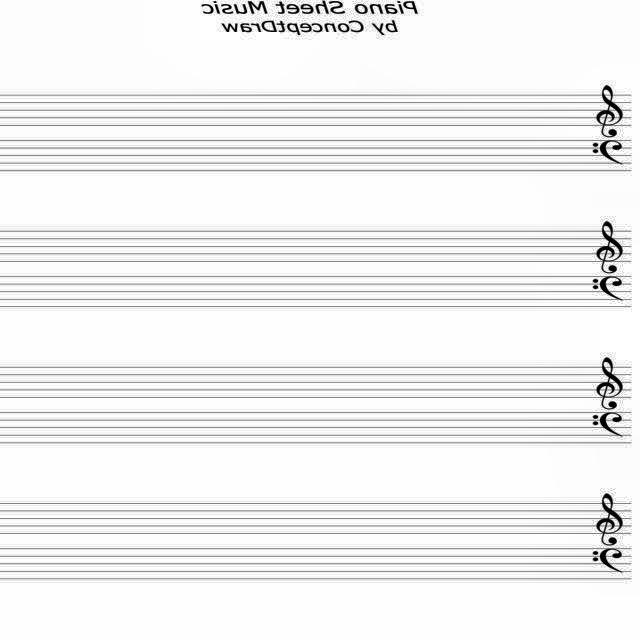Bass-clef: (590, 548, 626, 576), (591, 275, 627, 303), (589, 412, 627, 438), (589, 138, 623, 166)
Treble-clef: (590, 82, 626, 138), (594, 354, 626, 410), (594, 492, 626, 548), (595, 219, 625, 277)
